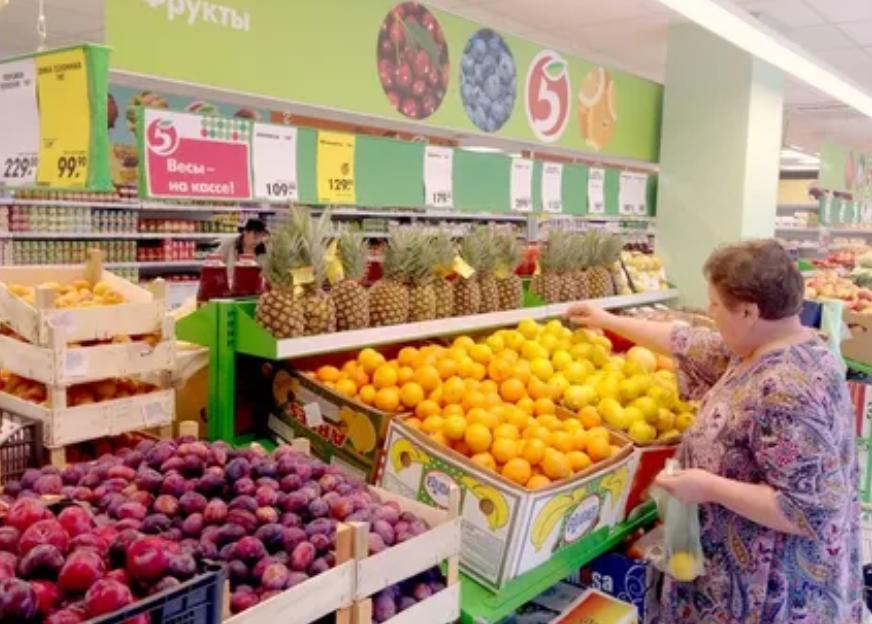lemon: (565, 359, 703, 442), (489, 316, 616, 390)
orange: (406, 385, 618, 495), (312, 341, 512, 416)
pineapple: (250, 246, 526, 337), (528, 236, 620, 304)
